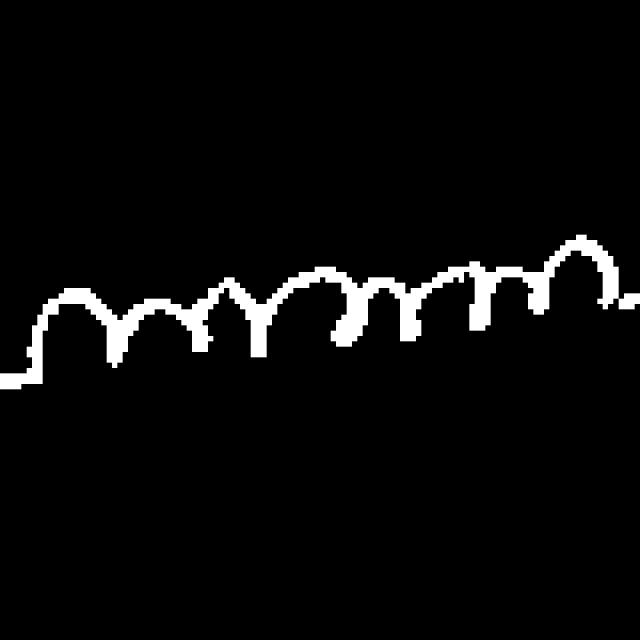inductor: (18, 229, 626, 426)
